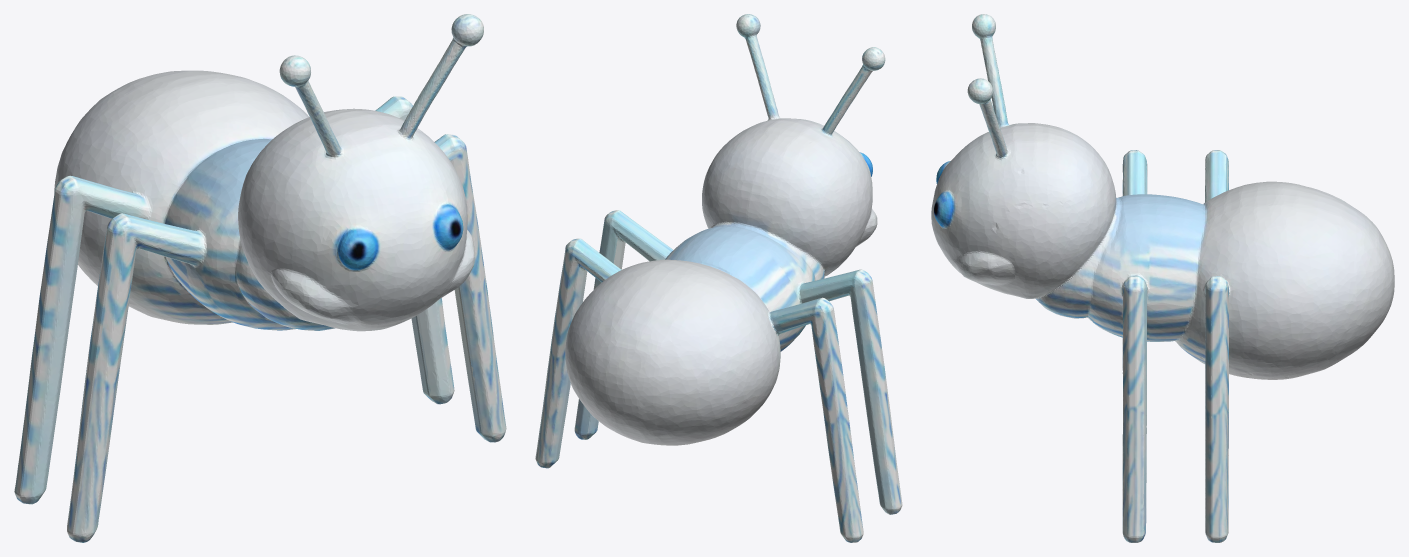
Rendered from creature-032.glb.
3 views of the same model, side by side, from view 1: azimuth 30°, elevation 25°; view 2: azimuth 150°, elevation 25°; view 3: azimuth 270°, elevation 25° (orthographic). The views are drawn at different scales.
Parts seen in each view (by area): view 1: tmp1zs6atmi.ply; view 2: tmp1zs6atmi.ply; view 3: tmp1zs6atmi.ply.
Boxes of the visible parts, x1,y1,x2,y2 form: tmp1zs6atmi.ply: (14, 14, 506, 542); tmp1zs6atmi.ply: (535, 14, 902, 542); tmp1zs6atmi.ply: (931, 14, 1394, 542).
Bounding box in the file's own units: 1.71 × 1.97 × 1.99.
Materials: 1 (1 with a texture image).
